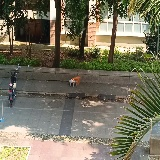fire: (72, 76, 80, 84)
